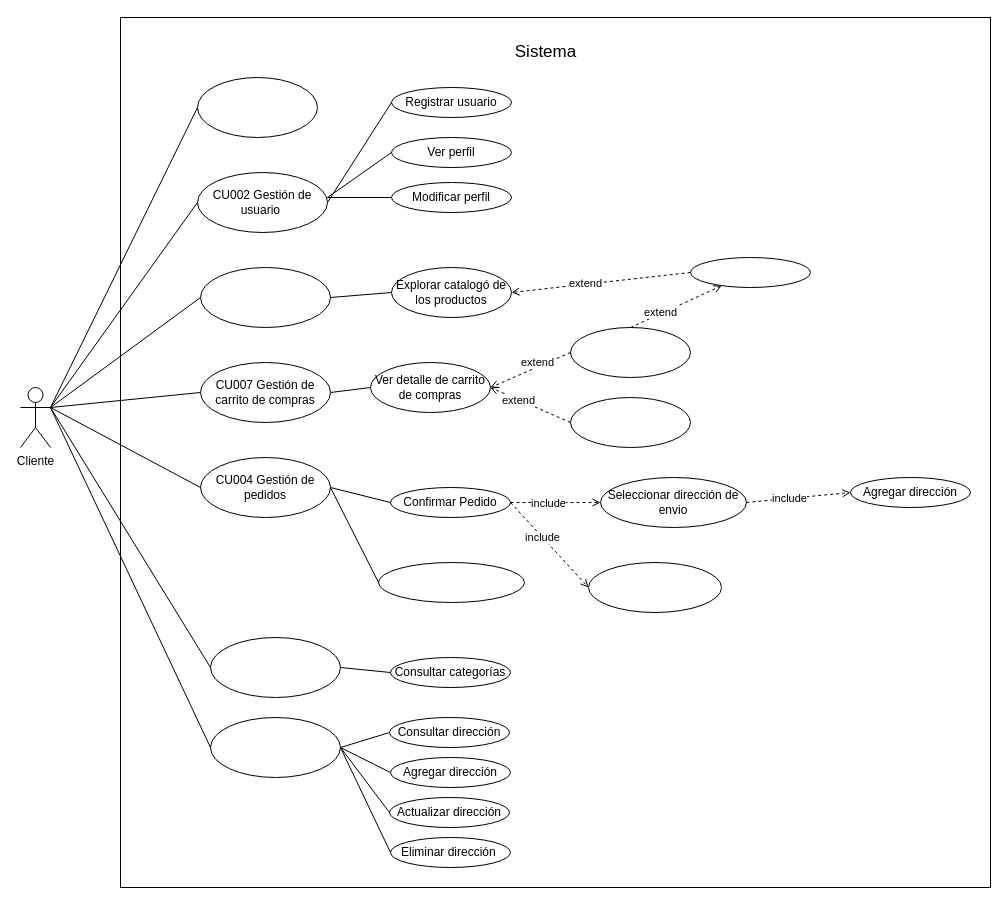
This 1008x905 diagram has some shape labels left out. Each missing label, with the centre of its shape:
"Añadir producto al carrito" belongs at (x=630, y=352).
"Consultar listado de pedidos" belongs at (x=451, y=582).
"CU001 Ingresar al sistema" belongs at (x=257, y=107).
"CU003 Gestión de productos" belongs at (x=265, y=297).
"CU005 Gestión categorías" belongs at (x=275, y=667).
"CU008 Gestión de direcciones" belongs at (x=275, y=747).
"Eliminar producto del carrito" belongs at (x=630, y=422).
"Seleccionar medio de pago" belongs at (x=655, y=587).
"Ver detalle producto" belongs at (x=750, y=272).
